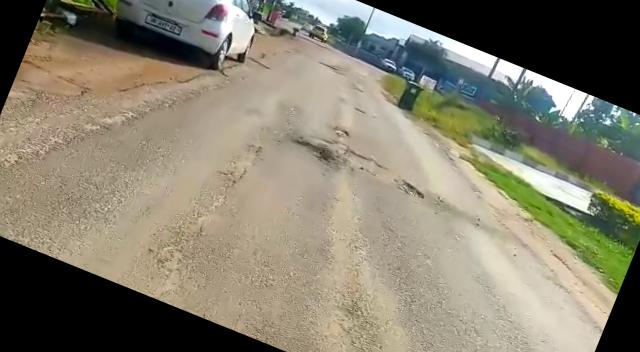pothole: (333, 145, 431, 202), (290, 134, 338, 168)
